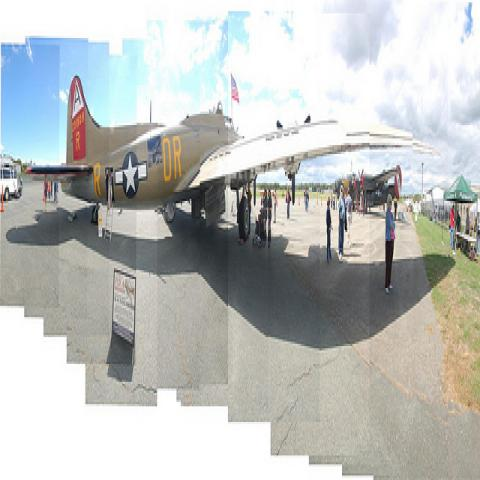car: (0, 166, 17, 201)
